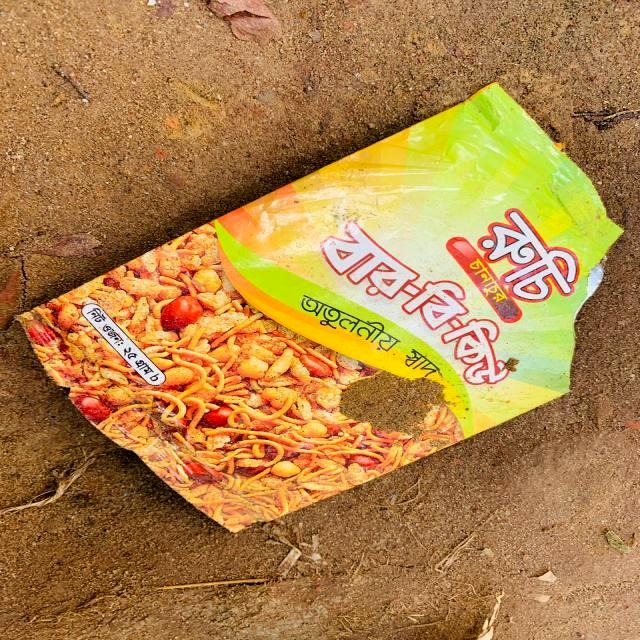packet: (11, 68, 640, 601)
